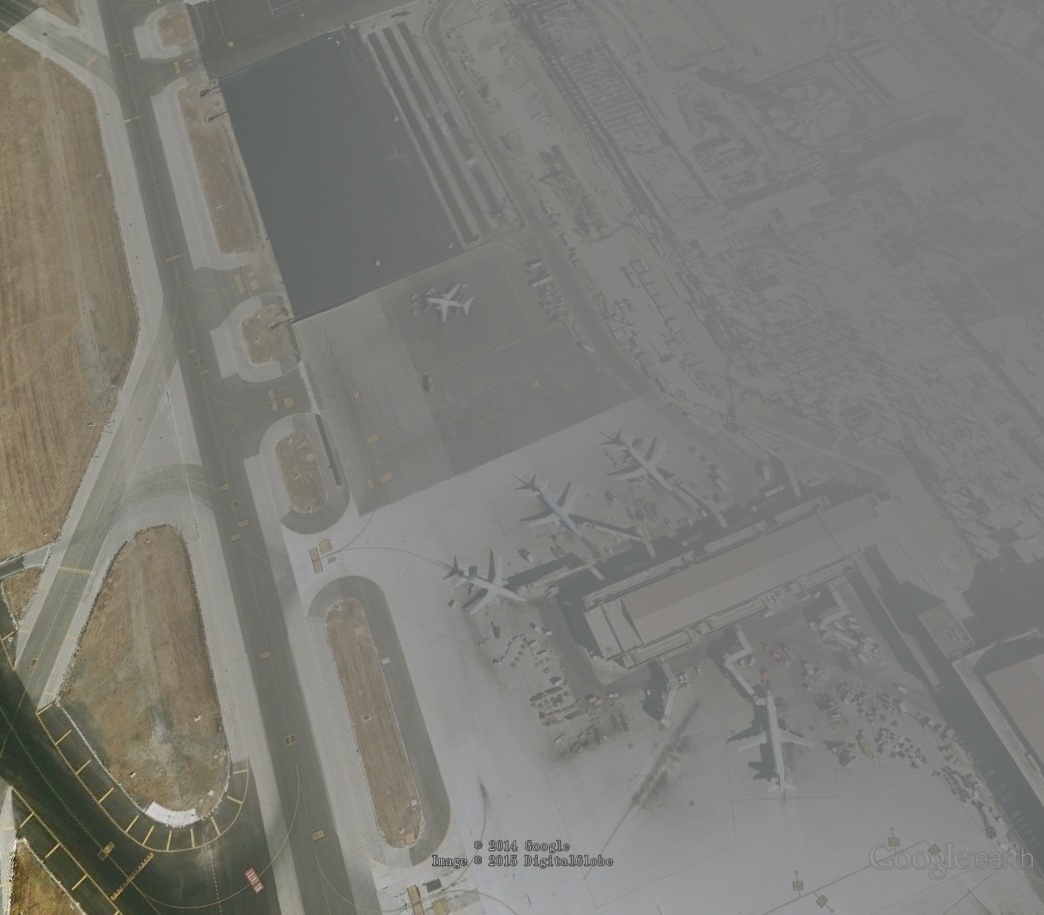aircraft: (733, 686, 818, 793), (453, 551, 529, 617), (612, 431, 675, 495), (525, 479, 586, 543), (424, 280, 478, 326)
